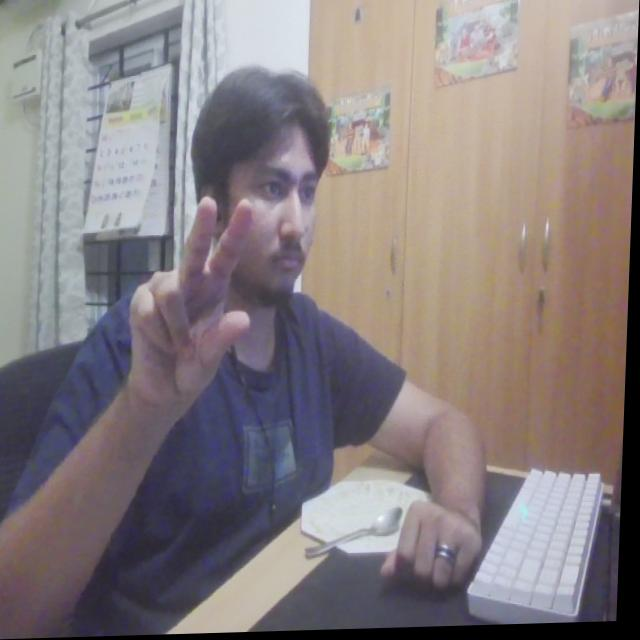no: (125, 194, 260, 421)
